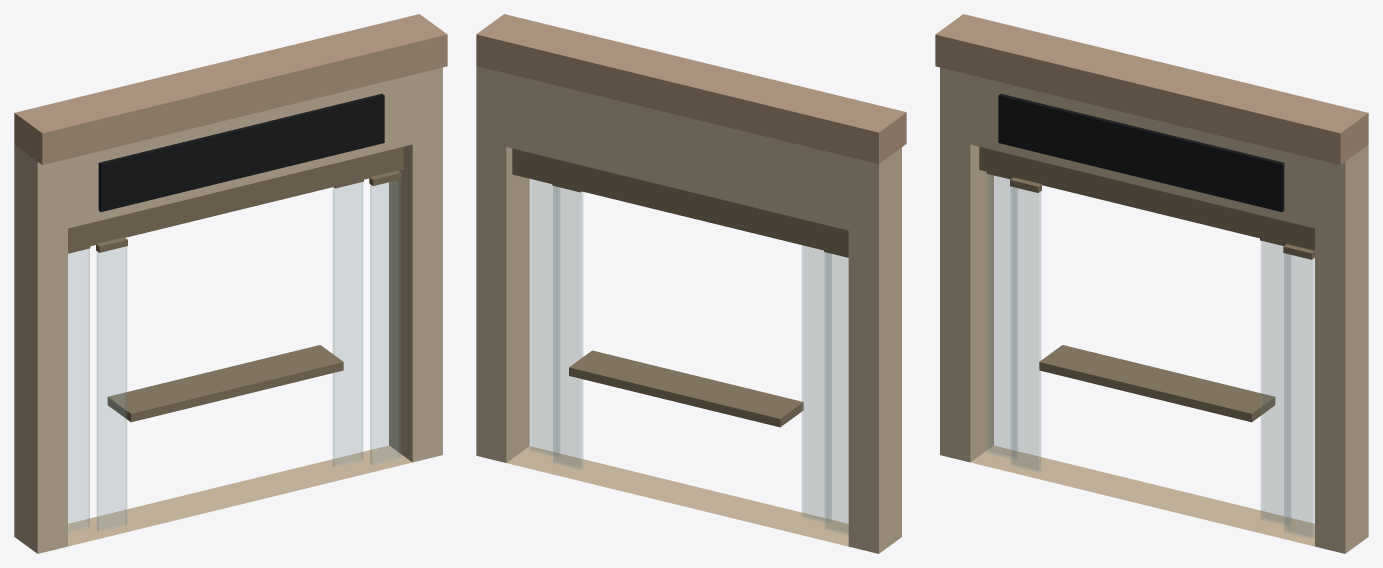
File: city_shop_cafe.glb
3 renders of one model, left to right at view 1: azimuth 30°, elevation 25°; view 2: azimuth 150°, elevation 25°; view 3: azimuth 330°, elevation 25°, orthographic.
Parts seen in each view (by area): view 1: CityShopCafe_Wall, CityShopCafe_Band, CityShopCafe_SignPanel, CityShopCafe_Leaf3, CityShopCafe_Leaf1, CityShopCafe_Leaf2, CityShopCafe_Head, CityShopCafe_Ledge, CityShopCafe_Leaf0; view 2: CityShopCafe_Wall, CityShopCafe_Band, CityShopCafe_Head, CityShopCafe_Leaf1, CityShopCafe_Leaf3, CityShopCafe_Leaf2, CityShopCafe_Ledge, CityShopCafe_Leaf0; view 3: CityShopCafe_Wall, CityShopCafe_Band, CityShopCafe_SignPanel, CityShopCafe_Leaf3, CityShopCafe_Leaf0, CityShopCafe_Leaf1, CityShopCafe_Leaf2, CityShopCafe_Head, CityShopCafe_Ledge.
Boxes of the visible parts, x1,y1,x2,y2 form: CityShopCafe_Wall: [14, 67, 442, 553]; CityShopCafe_Band: [14, 14, 447, 164]; CityShopCafe_SignPanel: [98, 93, 384, 211]; CityShopCafe_Leaf3: [370, 180, 400, 465]; CityShopCafe_Leaf1: [97, 246, 126, 531]; CityShopCafe_Leaf2: [333, 182, 362, 467]; CityShopCafe_Head: [68, 146, 403, 251]; CityShopCafe_Ledge: [107, 345, 343, 422]; CityShopCafe_Leaf0: [68, 249, 89, 532]; CityShopCafe_Wall: [476, 66, 901, 553]; CityShopCafe_Band: [476, 14, 906, 164]; CityShopCafe_Head: [512, 148, 848, 256]; CityShopCafe_Leaf1: [802, 245, 831, 523]; CityShopCafe_Leaf3: [530, 179, 559, 456]; CityShopCafe_Leaf2: [553, 186, 582, 469]; CityShopCafe_Ledge: [569, 350, 803, 427]; CityShopCafe_Leaf0: [825, 252, 848, 534]; CityShopCafe_Wall: [940, 67, 1368, 553]; CityShopCafe_Band: [935, 14, 1368, 164]; CityShopCafe_SignPanel: [998, 93, 1284, 211]; CityShopCafe_Leaf3: [1284, 253, 1314, 538]; CityShopCafe_Leaf0: [987, 174, 1017, 459]; CityShopCafe_Leaf1: [1011, 187, 1040, 471]; CityShopCafe_Leaf2: [1261, 241, 1290, 525]; CityShopCafe_Head: [979, 146, 1314, 250]; CityShopCafe_Ledge: [1039, 345, 1275, 422].
Bounding box in the file's own units: 4 × 4 × 0.53.
